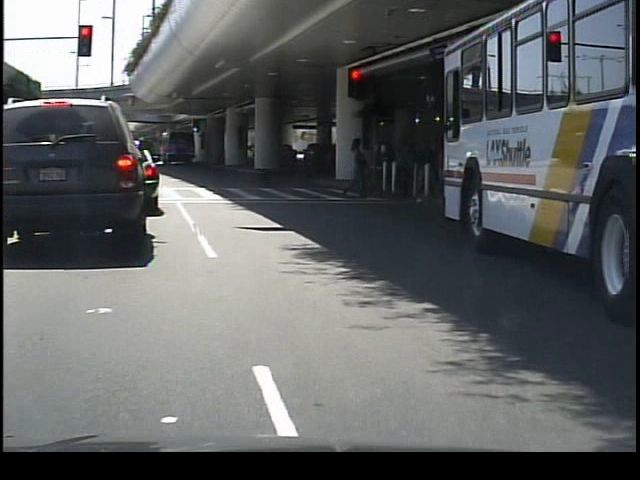person: (340, 136, 374, 202)
